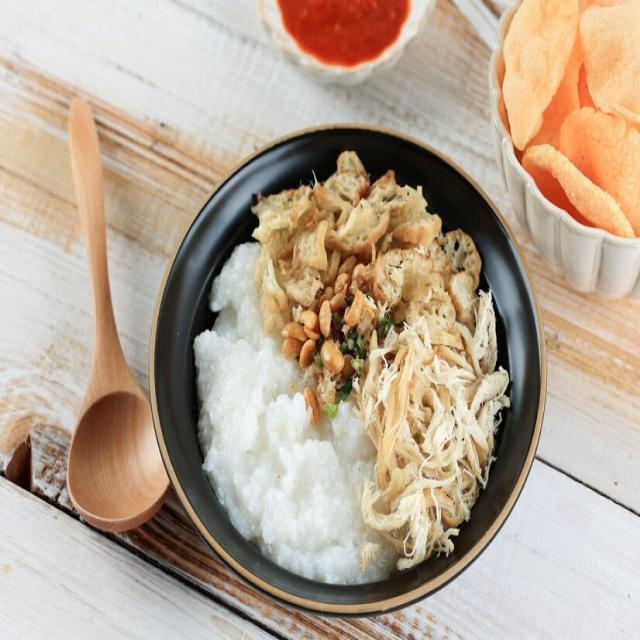bubur ayam: (196, 151, 509, 588)
mangkuk: (148, 124, 548, 616), (488, 2, 640, 300), (258, 1, 434, 88)
